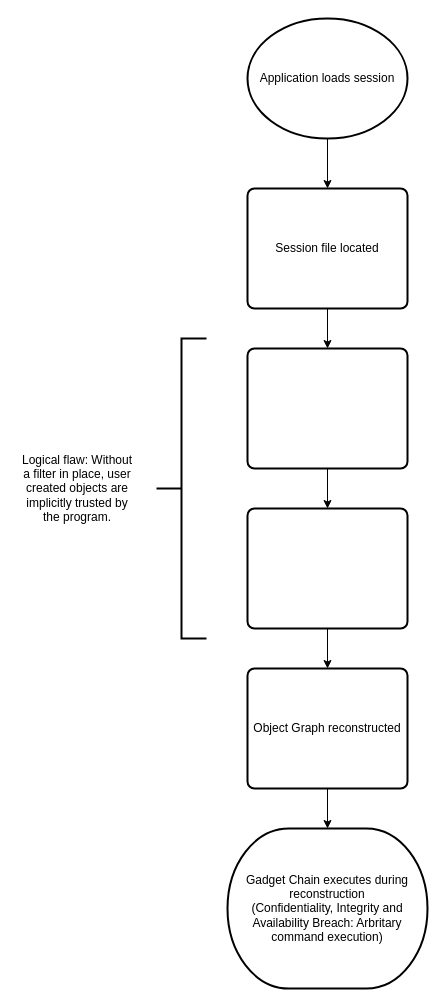
This 445x1006 diagram has some shape labels left out. Here are the shapes that lost their labels. From the top down, the centre of each, then its label:
At point (327, 408): "ObjectInputStream created".
At point (327, 568): "readObject() called without filtering".
